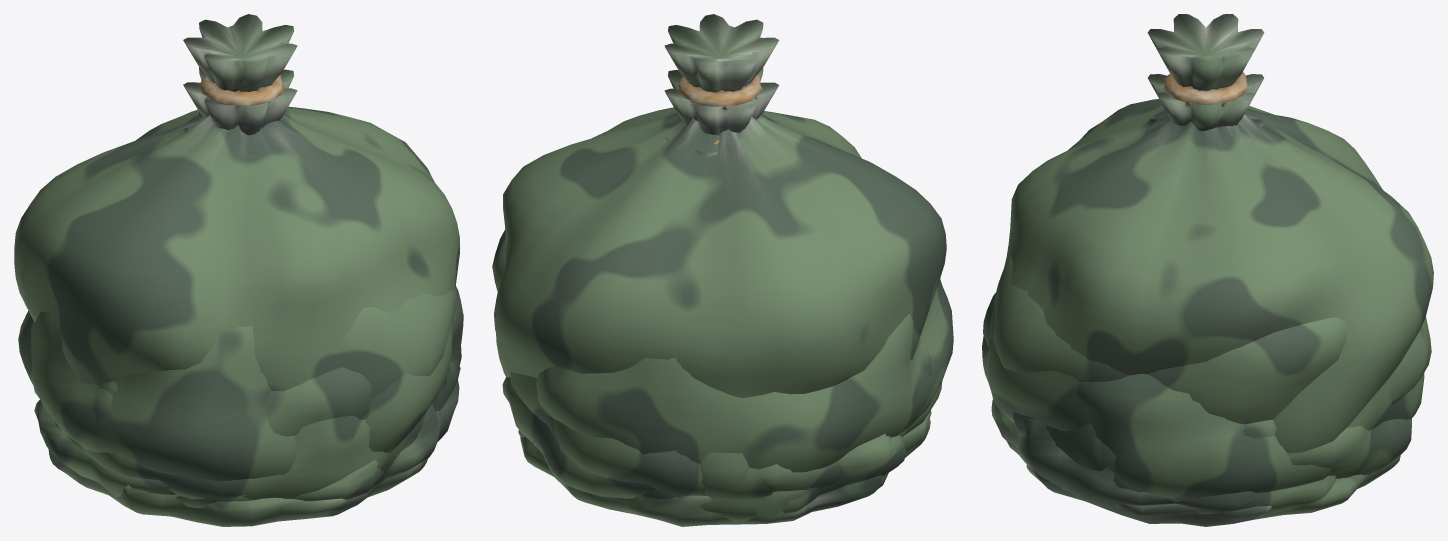
The model's file is PartBundle.fbx.
The picture shows the model from 3 angles, left to right: view 1: azimuth 30°, elevation 25°; view 2: azimuth 150°, elevation 25°; view 3: azimuth 270°, elevation 25°; orthographic projection.
Parts seen in each view (by area): view 1: Sack_6, Sack_5, Sack_3, Sack_2, Sack_1, Sack_4, Sack_6_Rope; view 2: Sack_6, Sack_5, Sack_4, Sack_1, Sack_3, Sack_2, Sack_6_Rope; view 3: Sack_6, Sack_5, Sack_4, Sack_2, Sack_3, Sack_1, Sack_6_Rope.
Boxes of the visible parts, left/top/right/bottom form: Sack_6: left=14, top=14, right=459, bottom=452; Sack_5: left=18, top=67, right=455, bottom=481; Sack_3: left=33, top=359, right=460, bottom=500; Sack_2: left=34, top=380, right=459, bottom=507; Sack_1: left=48, top=449, right=427, bottom=526; Sack_4: left=29, top=112, right=463, bottom=436; Sack_6_Rope: left=199, top=75, right=284, bottom=107; Sack_6: left=494, top=14, right=946, bottom=498; Sack_5: left=492, top=67, right=953, bottom=472; Sack_4: left=510, top=112, right=922, bottom=499; Sack_1: left=520, top=419, right=930, bottom=526; Sack_3: left=502, top=343, right=942, bottom=498; Sack_2: left=518, top=410, right=931, bottom=521; Sack_6_Rope: left=677, top=75, right=762, bottom=109; Sack_6: left=987, top=14, right=1433, bottom=452; Sack_5: left=989, top=74, right=1431, bottom=447; Sack_4: left=983, top=119, right=1424, bottom=501; Sack_2: left=991, top=399, right=1336, bottom=514; Sack_3: left=982, top=336, right=1411, bottom=492; Sack_1: left=1007, top=442, right=1400, bottom=526; Sack_6_Rope: left=1163, top=72, right=1248, bottom=106.
Size of the model in its own units: 0.0451 by 0.0478 by 0.0453.
Materials: 12 (12 with a texture image).
